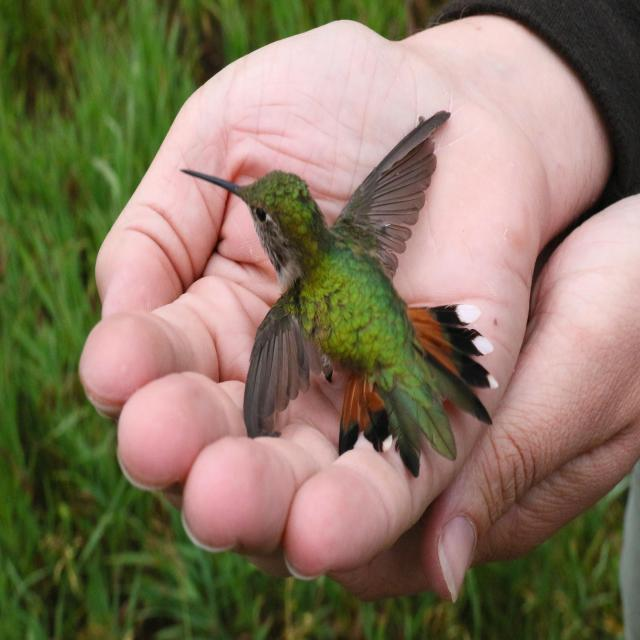Humming Bird: (186, 110, 469, 472)
